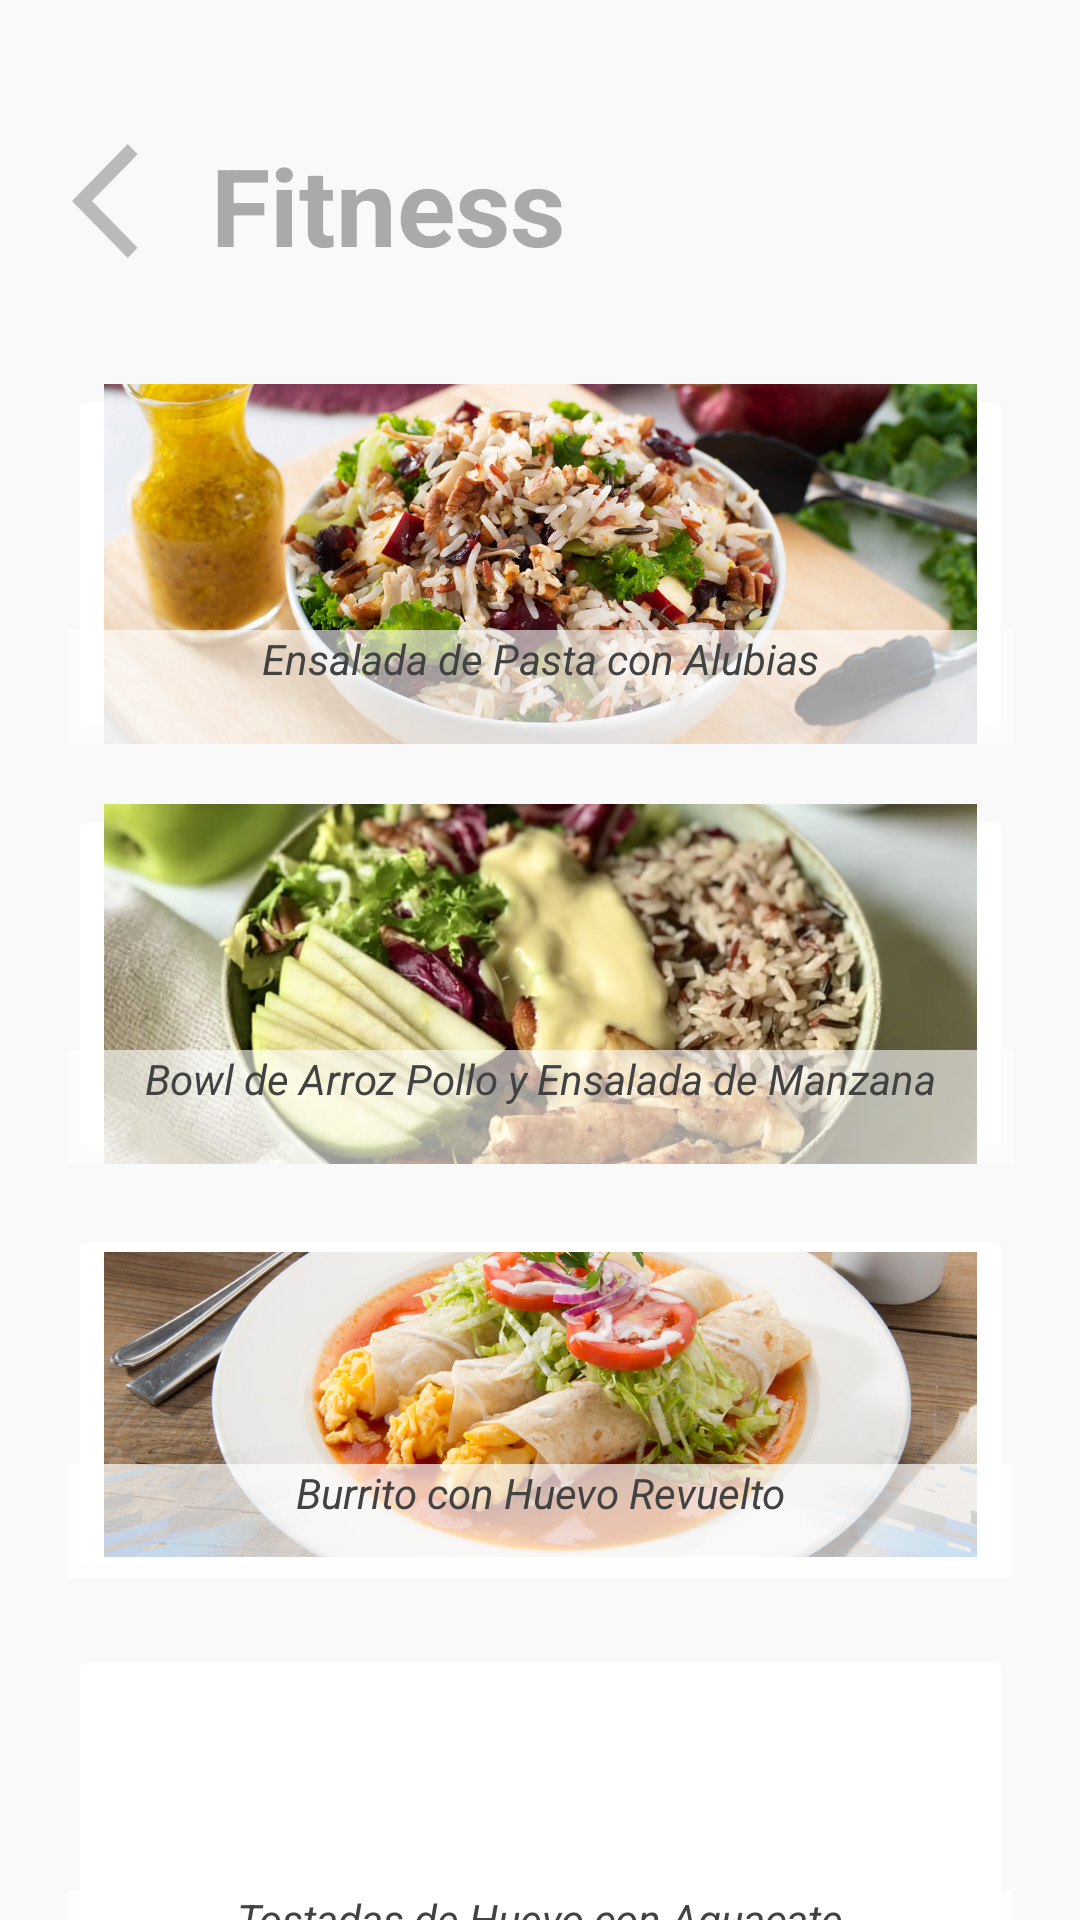

Locate icon controls on the screen. Image size 1080*1920, boxes as (x1, y1, x2, y2).
flecha: (72, 144, 137, 258)
